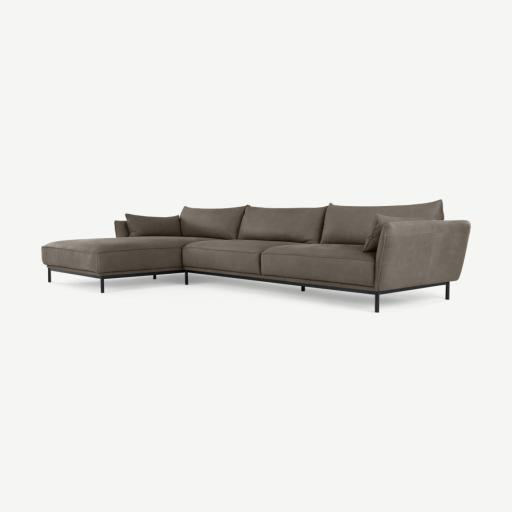back_cushion: (115, 200, 443, 251)
left_arm: (375, 220, 470, 293)
legs: (48, 267, 450, 312)
right_arm: (114, 221, 129, 237)
seat_cushion: (43, 237, 374, 285)
two-seater: (0, 0, 511, 512)
